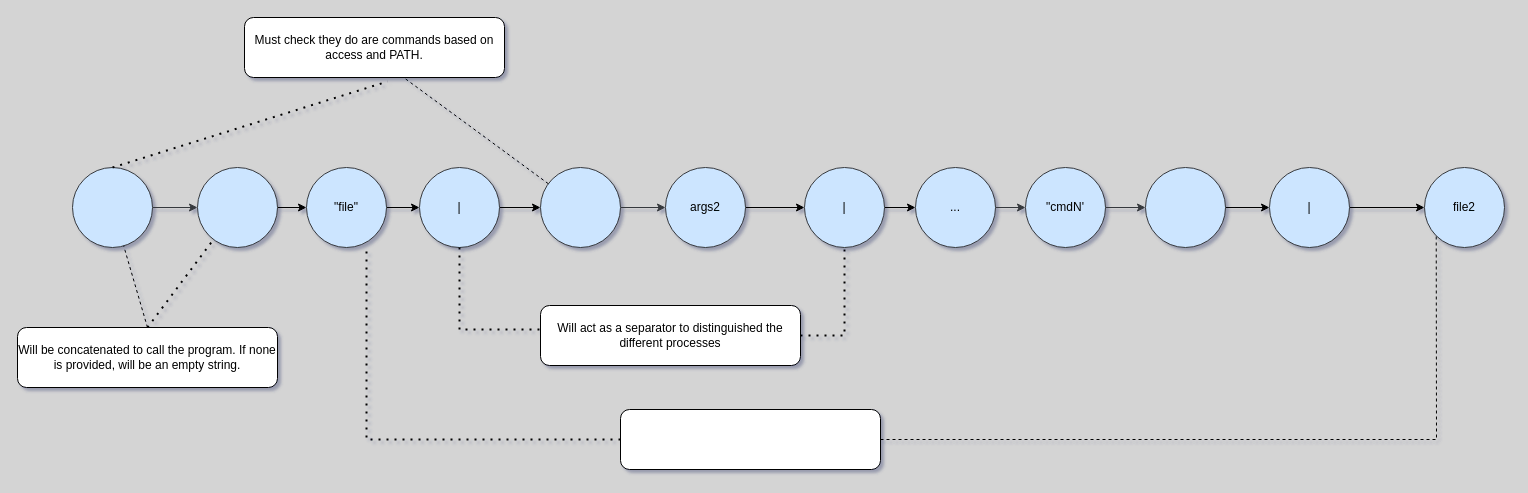
Image size: 1528x493. Some labels were removed from this diagram. Each missing label, with the box of its shape:
"argsN": (1144, 166, 1226, 248)
args: (196, 166, 278, 248)
cmd1: (72, 166, 152, 248)
cmd2: (540, 166, 620, 248)
Must check they do are files (based on access).: (620, 408, 880, 470)
